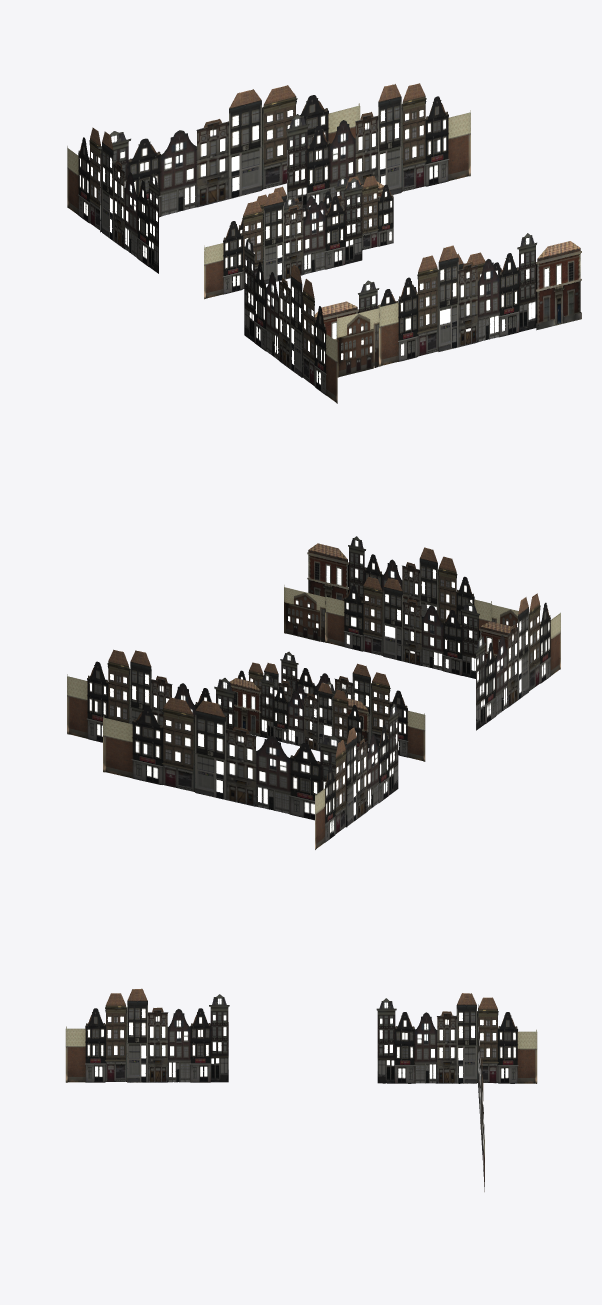
The model's file is Building04.fbx.
3 renders of one model, top to bottom at view 1: azimuth 30°, elevation 25°; view 2: azimuth 150°, elevation 25°; view 3: azimuth 270°, elevation 25°, orthographic. The views are drawn at different scales.
Visible parts, largest first — view 1: MeshBaker__5__mesh_mesh; view 2: MeshBaker__5__mesh_mesh; view 3: MeshBaker__5__mesh_mesh.
Boxes of the visible parts, x1,y1,x2,y2 form: MeshBaker__5__mesh_mesh: (67, 83, 581, 403); MeshBaker__5__mesh_mesh: (67, 536, 560, 849); MeshBaker__5__mesh_mesh: (65, 988, 537, 1191).
Size of the model in its own units: 10023 by 3638 by 11771.
